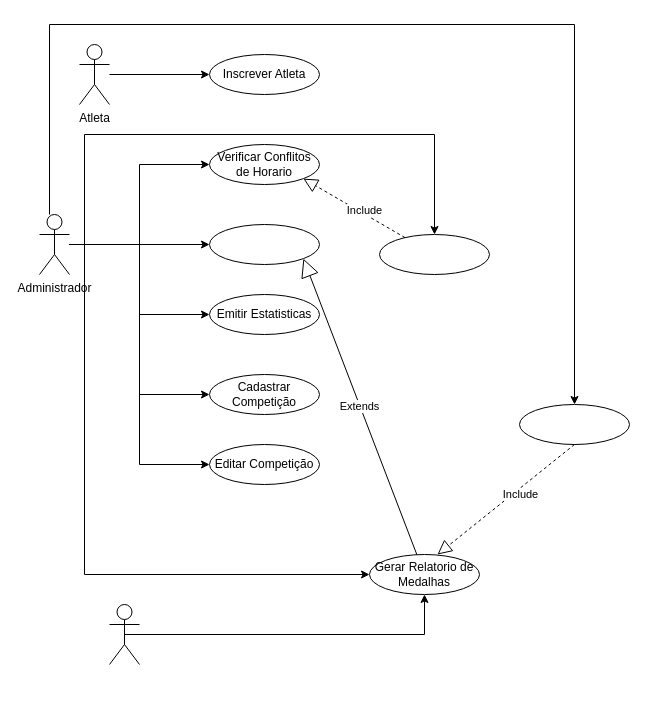
This 647x703 diagram has some shape labels left out. The box of each missing label's shape, as (x1, y1, x2, y2) in pixels:
Comitê: (108, 604, 140, 664)
Consultar Ranking: (208, 224, 320, 264)
Gerenciar locais: (378, 234, 490, 274)
Registrar Resultado: (518, 404, 630, 444)
